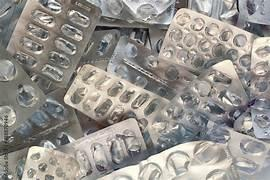pill_Strip: (100, 126, 268, 179), (149, 60, 247, 148), (7, 0, 100, 86), (159, 8, 255, 91), (64, 65, 167, 122), (107, 37, 195, 98), (59, 118, 146, 178), (100, 141, 237, 179), (7, 89, 82, 151), (0, 47, 44, 146), (202, 122, 269, 177), (192, 60, 248, 122), (34, 89, 82, 145), (96, 0, 174, 25), (227, 129, 269, 174), (22, 146, 79, 179), (251, 37, 269, 138), (79, 29, 119, 69), (32, 119, 82, 147), (35, 118, 82, 146), (0, 0, 26, 47), (188, 0, 238, 24), (251, 37, 269, 98), (123, 0, 174, 21), (0, 148, 28, 180), (239, 0, 269, 24), (123, 0, 174, 13), (97, 16, 150, 28), (188, 0, 222, 18), (233, 107, 254, 136), (30, 73, 58, 93), (149, 27, 166, 52)
